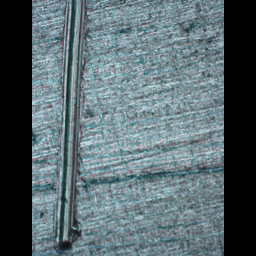d: (49, 0, 94, 253)
